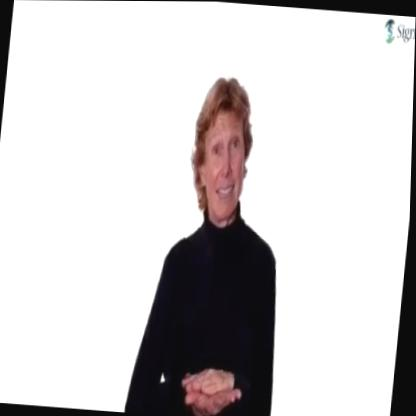NiceToMeetYou: (169, 323, 259, 416)
